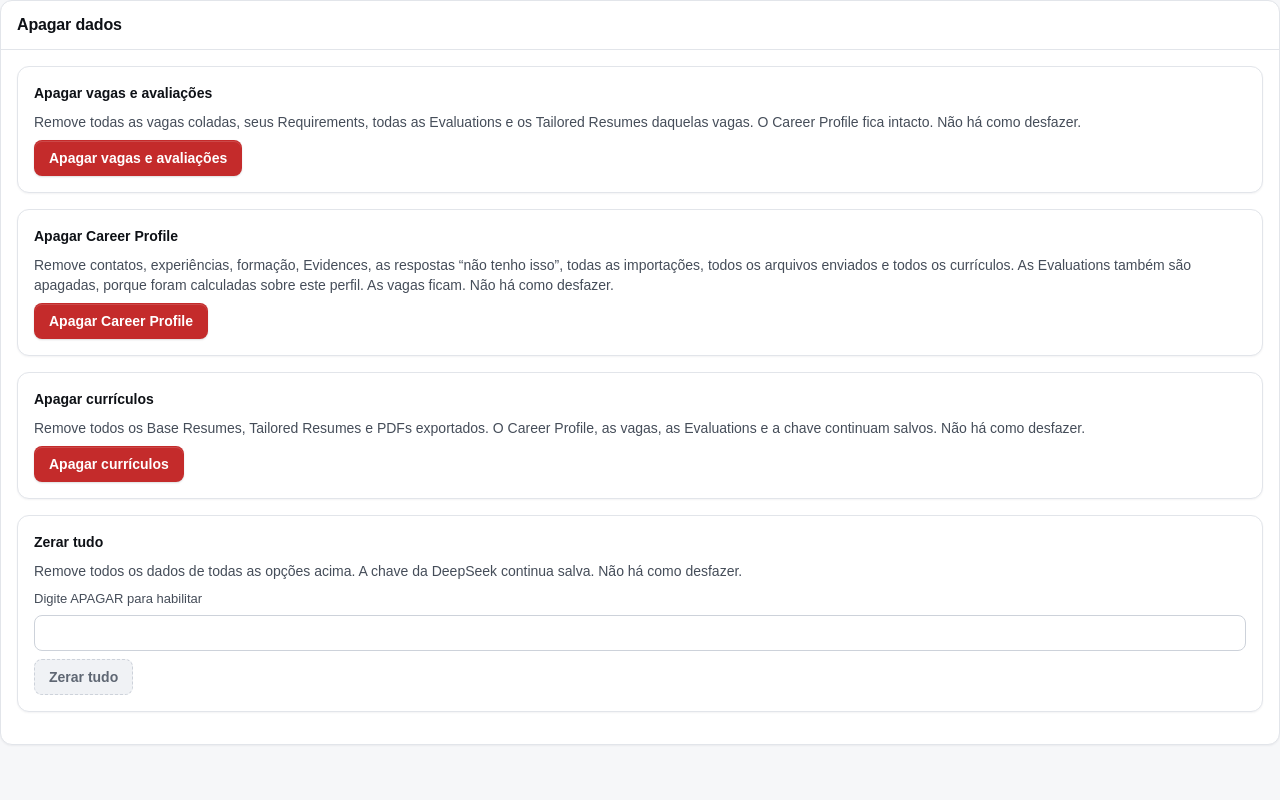
Test case: DataErasurePanel › should stay on settings with an error when wiping everything fails
This screenshot has width=1280, height=800.
Type "APAGAR" into the field labelled "Digite APAGAR para habilitar" at (640, 632), box [34,614,1246,650]
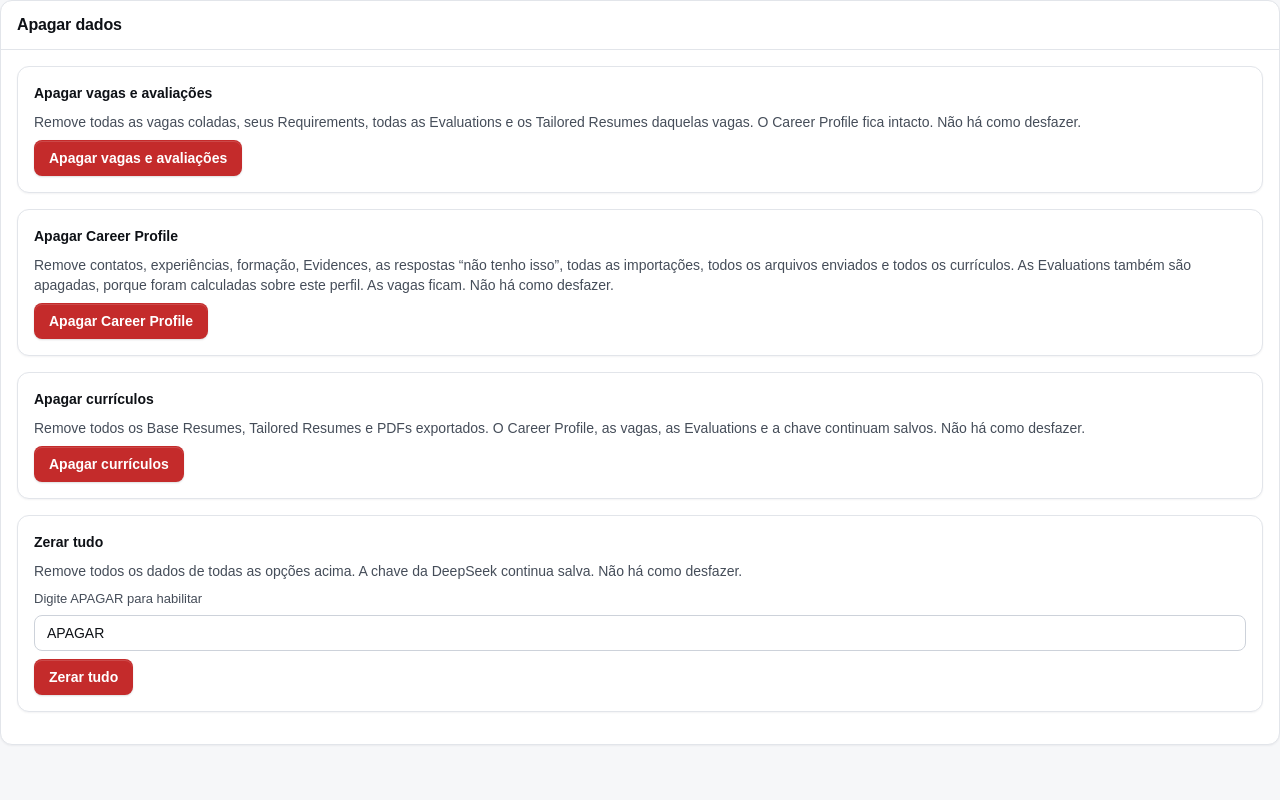
Click the button "Zerar tudo" at (84, 676), box [34,658,133,694]
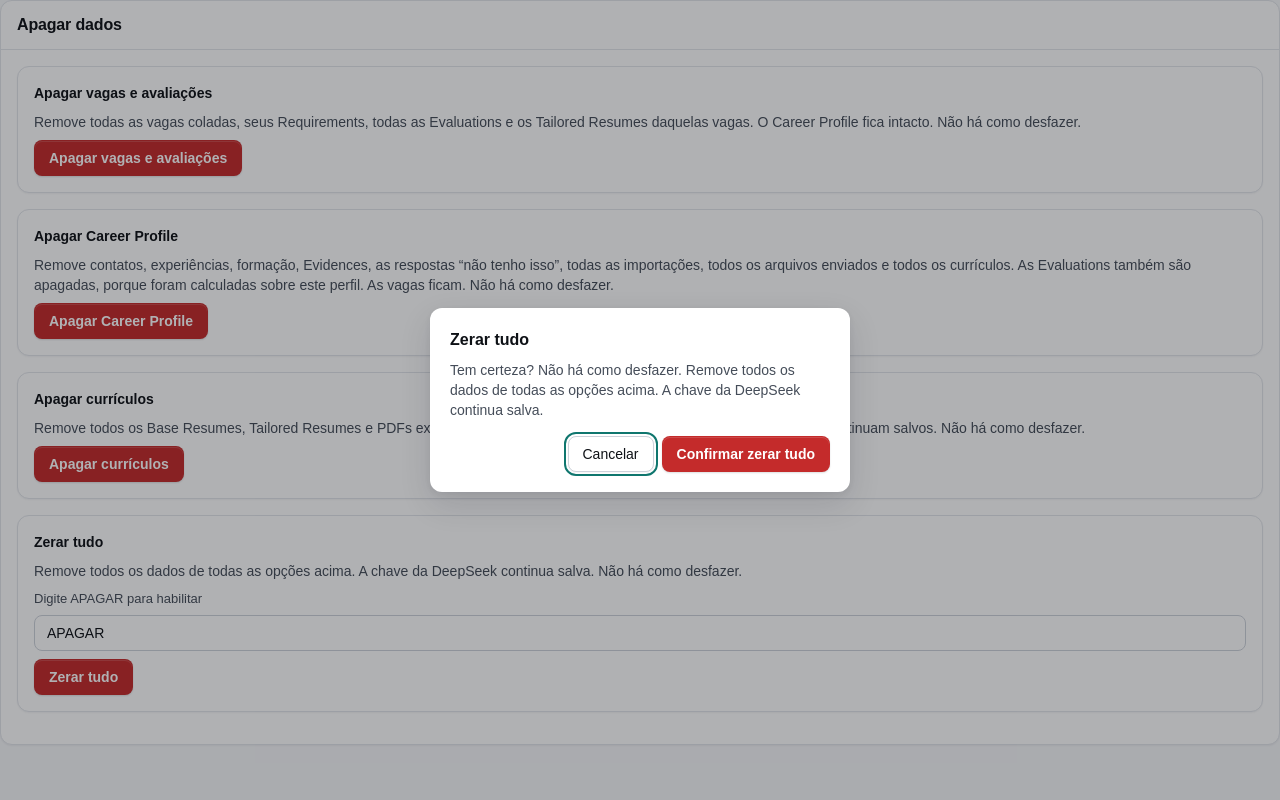
Click the button "Confirmar zerar tudo" at (746, 454), box [662,436,830,472]
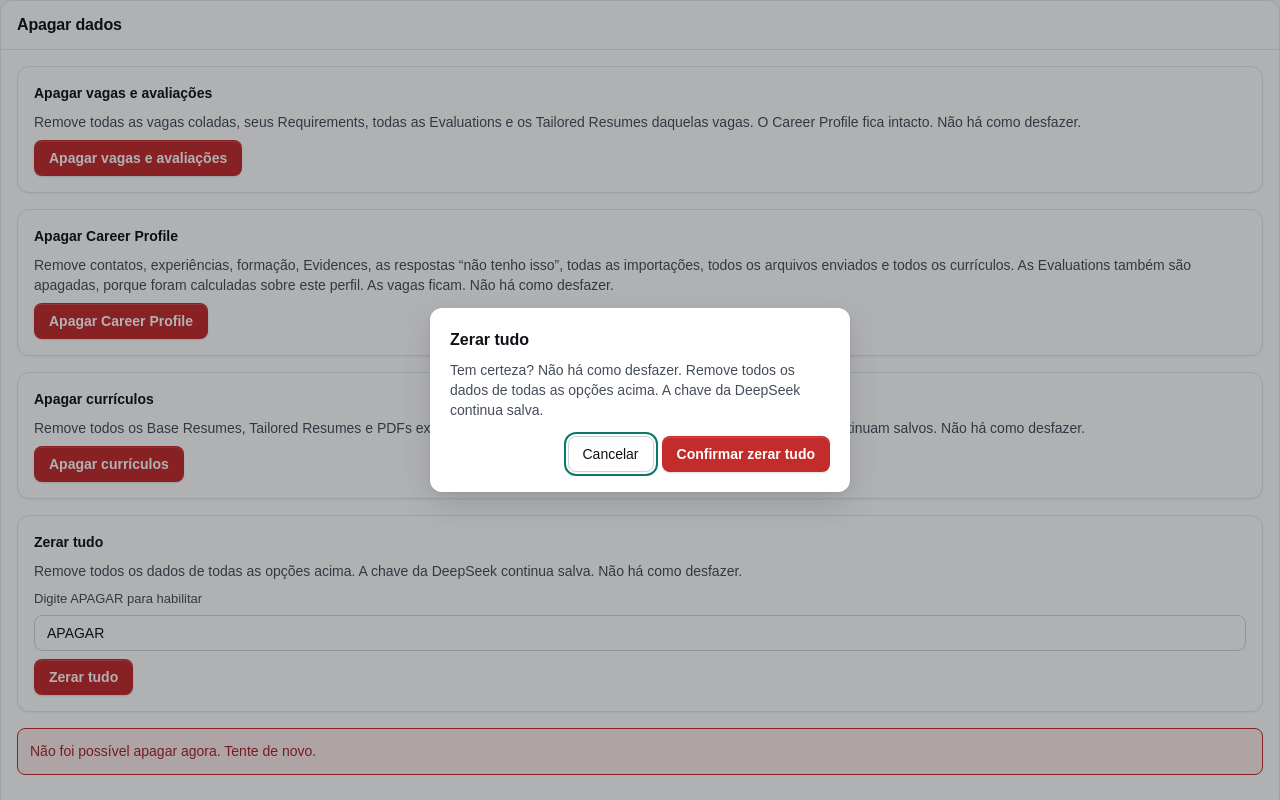
Expected: the text "Não foi possível apagar agora. Tente de novo." is shown, [17,728,1263,774]
